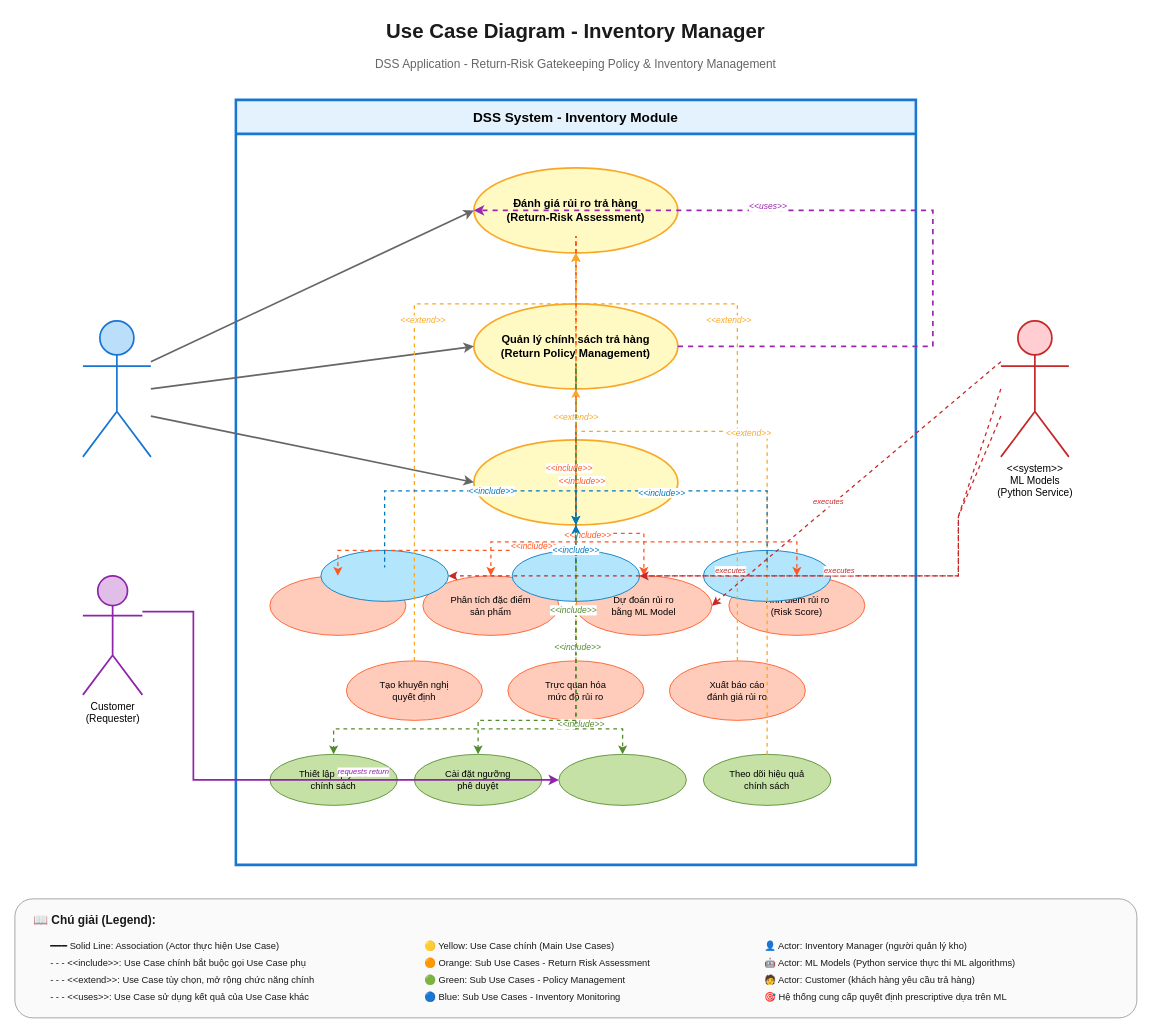
Some shapes in this 1152 by 1033 pixel diagram are drawn without their labels. The shapes that lost their labels are listed below. From the top down, each one's box as (x1, y1, x2, y2) in pixels, then its label:
(82, 320, 151, 457): Inventory Manager
(473, 439, 678, 525): Giám sát tồn kho (Inventory Monitoring)
(320, 550, 448, 601): Phát hiện bất thường tồn kho
(511, 550, 640, 601): Dự báo nhu cầu tồn kho
(703, 550, 831, 601): Kiểm toán kho hàng
(269, 575, 406, 635): Phân tích lịch sử khách hàng
(558, 754, 686, 805): Phê duyệt / Từ chối đơn trả hàng
